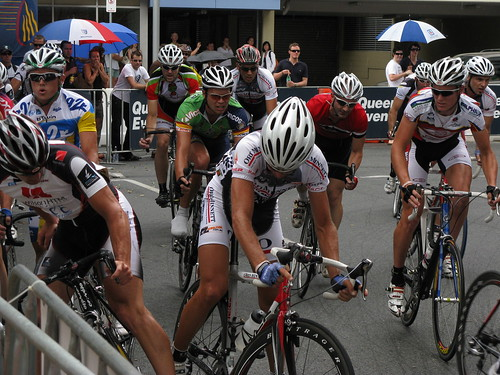helmet: (256, 99, 316, 164), (330, 68, 366, 97), (199, 61, 235, 83), (30, 44, 70, 63), (160, 37, 185, 65), (231, 38, 260, 59)
